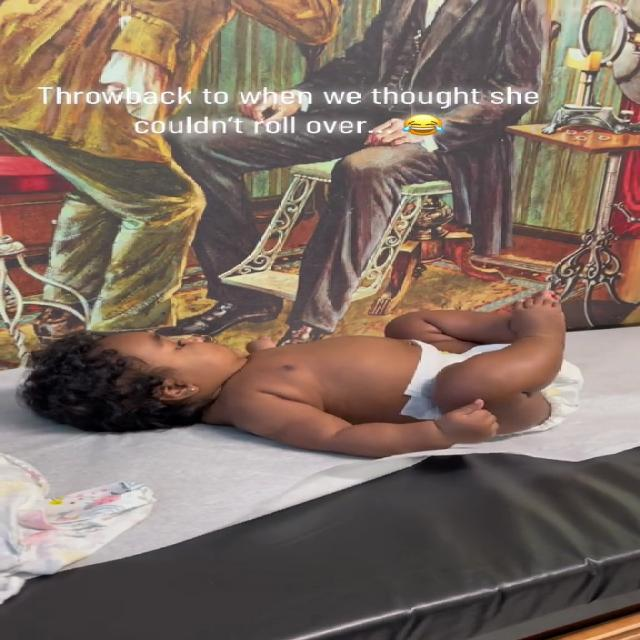baby: (22, 286, 598, 466)
